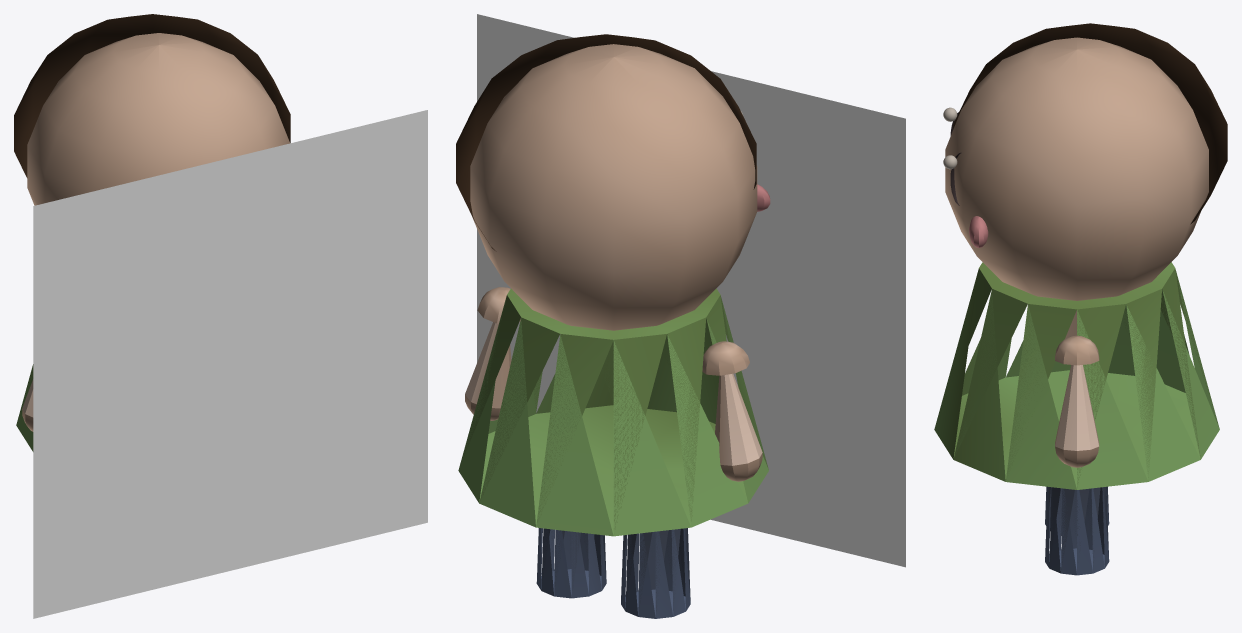
The picture shows the model from 3 angles, left to right: view 1: azimuth 30°, elevation 25°; view 2: azimuth 150°, elevation 25°; view 3: azimuth 270°, elevation 25°; orthographic projection. The views are drawn at different scales.
Visible parts, largest first — view 1: pet_p9c96b431; view 2: pet_p9c96b431; view 3: pet_p9c96b431.
Boxes of the visible parts, left/top/right/bottom form: pet_p9c96b431: left=14, top=14, right=427, bottom=618; pet_p9c96b431: left=456, top=14, right=905, bottom=618; pet_p9c96b431: left=934, top=23, right=1227, bottom=575.
Size of the model in its own units: 0.51 by 0.625 by 0.3287.
